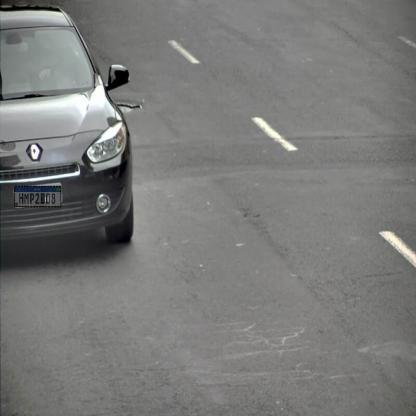PlacaM: (14, 186, 61, 207)
